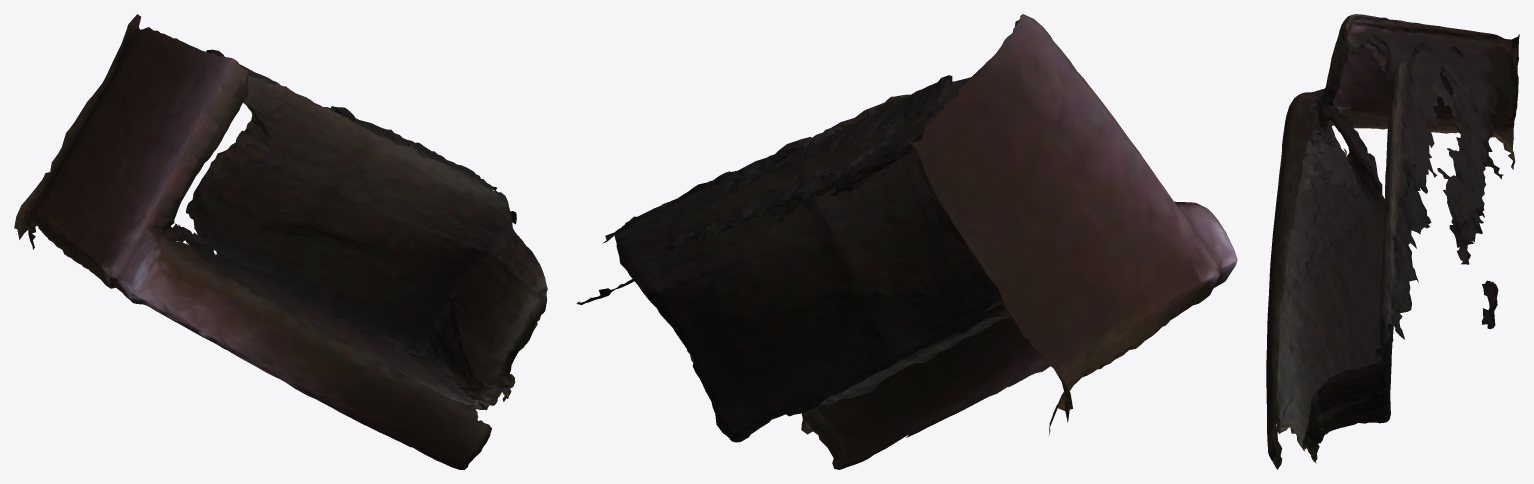
File: 9-couch.obj
3 views of the same model, side by side, from view 1: azimuth 30°, elevation 25°; view 2: azimuth 150°, elevation 25°; view 3: azimuth 270°, elevation 25° (orthographic). The views are drawn at different scales.
Bounding box in the file's own units: 1.33 × 1.25 × 0.7634.
